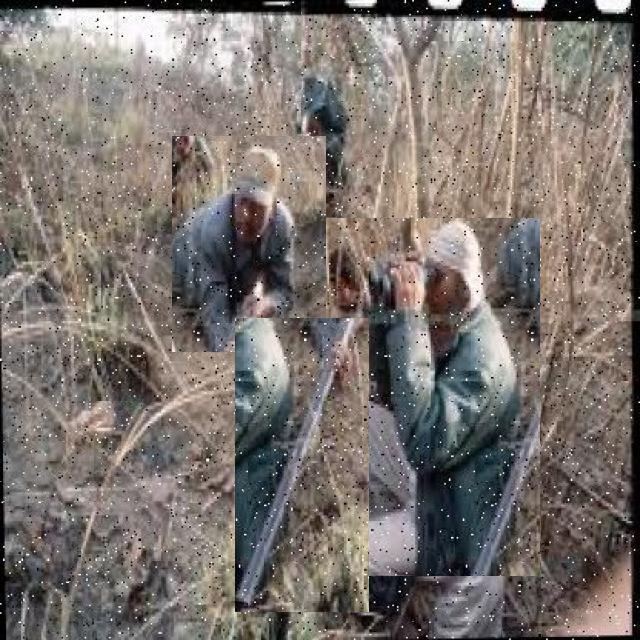poacher: (292, 218, 540, 576), (172, 136, 326, 352), (274, 70, 376, 178)
weapon: (236, 318, 370, 612)
